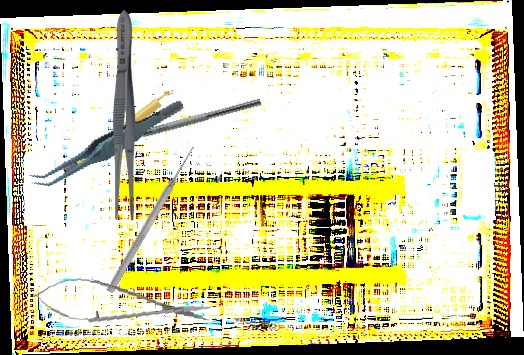Chopper: (108, 88, 262, 148)
Dressing Forceps: (111, 10, 138, 221)
Micro Scissor: (32, 272, 213, 337)
Pusher: (104, 144, 199, 295)
Scalpel Handle: (62, 85, 179, 178)
Tissue Forceps: (20, 98, 195, 192)
